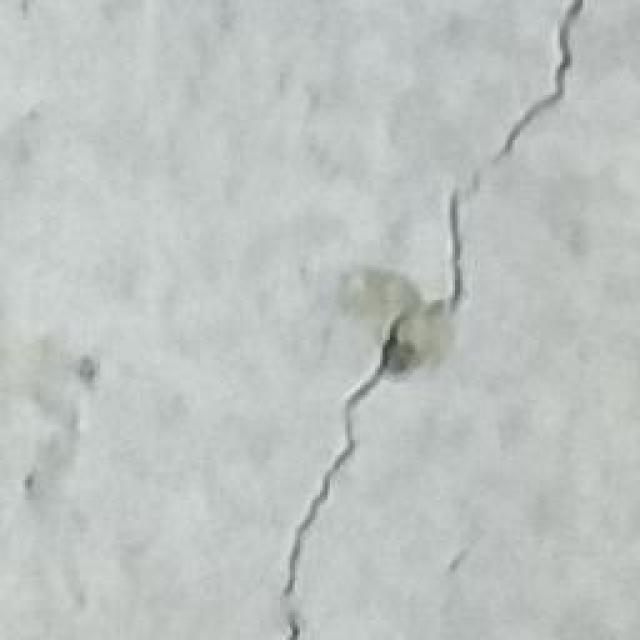Longitudinal: (266, 0, 597, 634)
